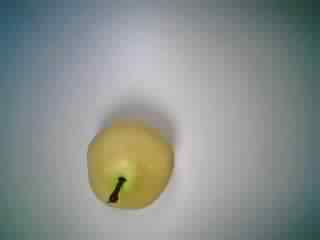pear: (66, 111, 190, 215)
